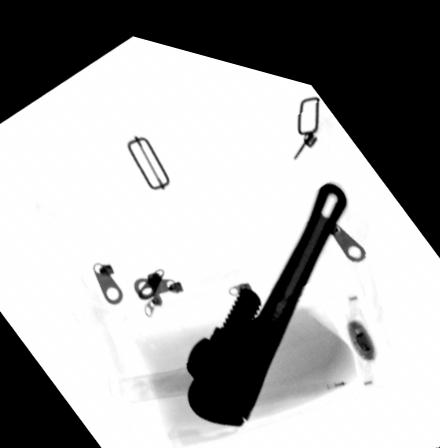Wrench: (183, 162, 351, 416)
